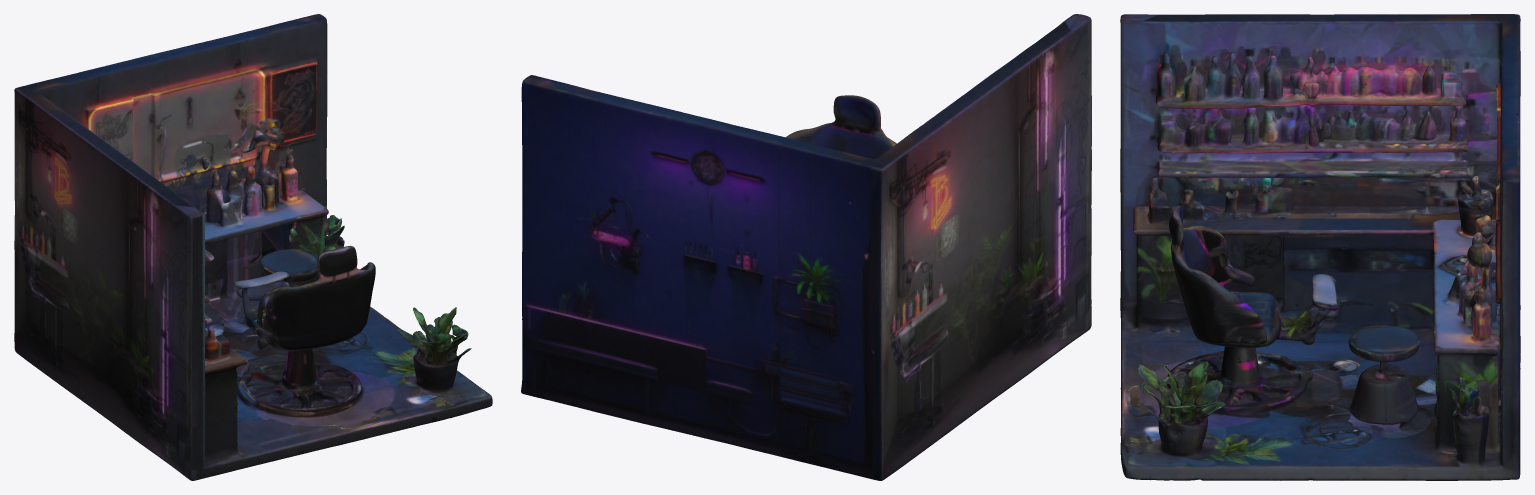
File: finish.glb
3 views of the same model, side by side, from view 1: azimuth 30°, elevation 25°; view 2: azimuth 150°, elevation 25°; view 3: azimuth 270°, elevation 25° (orthographic). The views are drawn at different scales.
Bounding box in the file's own units: 2 × 1.64 × 1.99.
1 material, 1 textured.
